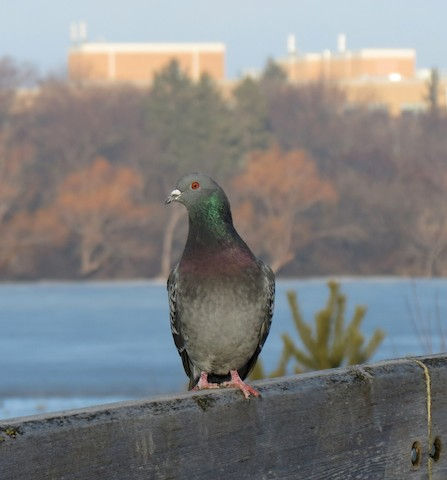pigeon: (159, 170, 278, 402)
